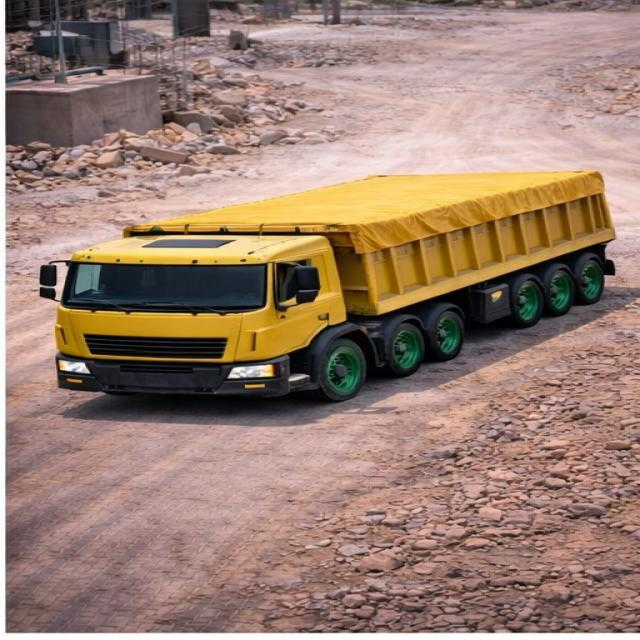trailer: (128, 168, 591, 228)
truck: (27, 153, 612, 420)
